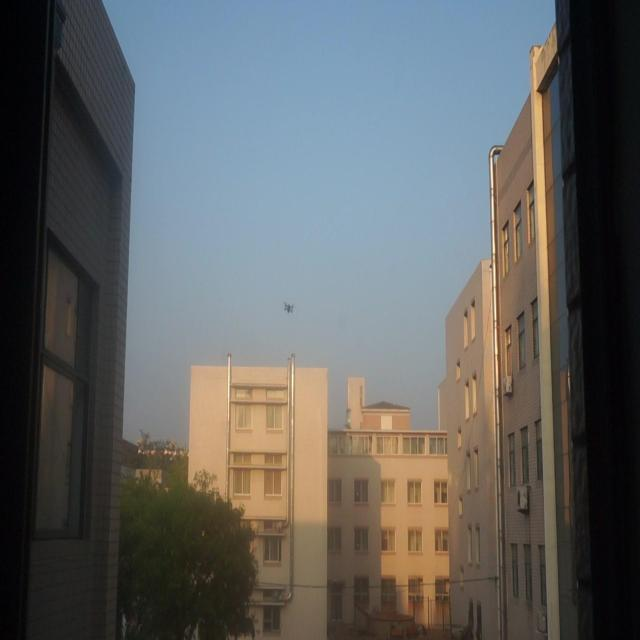drone: (282, 298, 296, 316)
